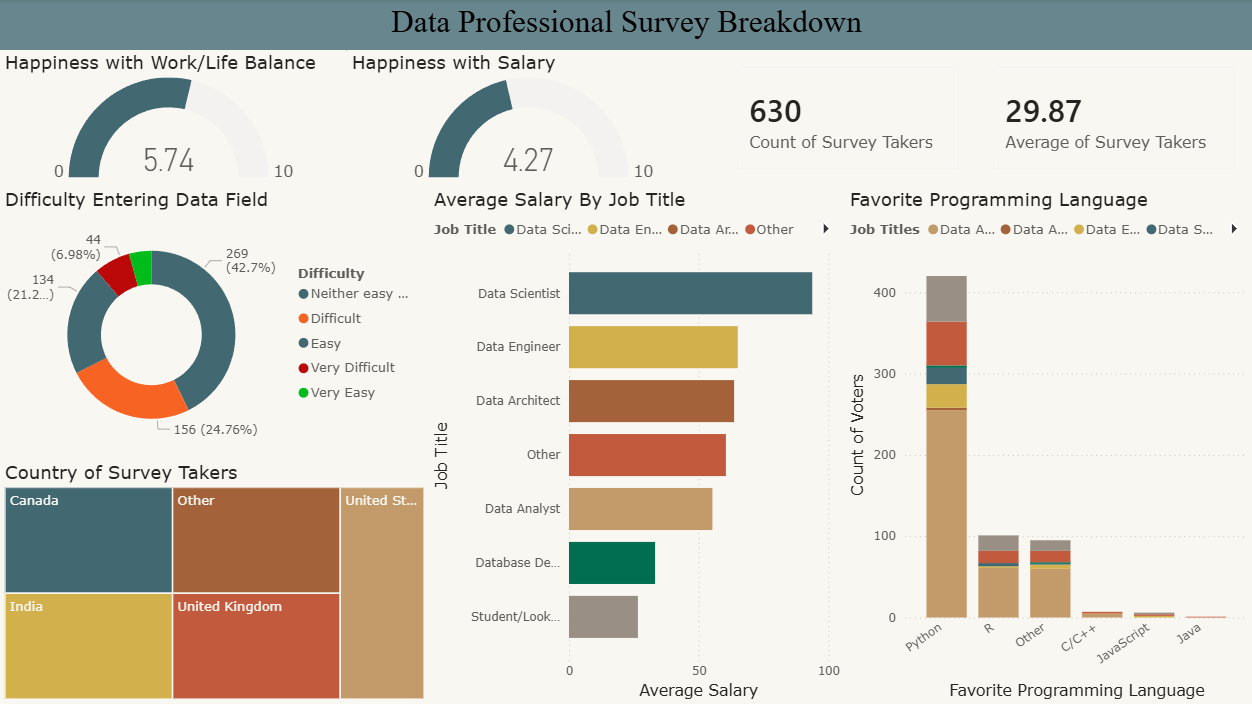

This screenshot's page, from the dashboard's own definition file:
{"tool":"powerbi","page":{"name":"Data Professional Survey Insights","canvas":[1280,720],"ordinal":0},"visuals":[{"type":"textbox","box":[0,0,1280,52.5],"z":0},{"type":"cardVisual","fields":{"Data":["CountNonNull(Data Professional Survey.Unique ID)"]},"box":[735.5,52.1,261.5,140],"z":1000},{"type":"cardVisual","fields":{"Data":["Avg(Data Professional Survey.Q10 - Current Age)"]},"box":[997,52.1,283,140],"z":2000},{"type":"barChart","title":"Average Salary By Job Title","fields":{"Category":["Data Professional Survey.Q1 - Which Title Best Fits your Current Role?.1"],"Y":["Avg(Data Professional Survey.Average Salary)"],"Series":["Data Professional Survey.Q1 - Which Title Best Fits your Current Role?.1"]},"box":[438.2,192.1,425,528.1],"z":3000},{"type":"columnChart","title":"Favorite Programming Language","fields":{"Category":["Data Professional Survey.Q5 - Favorite Programming Language.1"],"Y":["CountNonNull(Data Professional Survey.Unique ID)"],"Series":["Data Professional Survey.Q1 - Which Title Best Fits your Current Role?.1"]},"box":[863.2,192.1,416.8,528.1],"z":4000},{"type":"treemap","title":"Country of Survey Takers","fields":{"Group":["Data Professional Survey.Q11 - Which Country do you live in?.1"],"Values":["Count(Data Professional Survey.Q11 - Which Country do you live in?.1)"]},"box":[0,470.9,438.2,249.3],"z":5000},{"type":"gauge","title":"Happiness with Work/Life Balance","fields":{"Y":["Avg(Data Professional Survey.Q6 - How Happy are you in your Current Position with the following? (Work/Life Balance))"],"MinValue":["Min(Data Professional Survey.Q6 - How Happy are you in your Current Position with the following? (Work/Life Balance))1"],"MaxValue":["Max(Data Professional Survey.Q6 - How Happy are you in your Current Position with the following? (Work/Life Balance))2"]},"box":[0,52.1,354.5,140],"z":6000},{"type":"gauge","title":"Happiness with Salary","fields":{"Y":["Avg(Data Professional Survey.Q6 - How Happy are you in your Current Position with the following? (Salary))"],"MinValue":["Min(Data Professional Survey.Q6 - How Happy are you in your Current Position with the following? (Salary))"],"MaxValue":["Max(Data Professional Survey.Q6 - How Happy are you in your Current Position with the following? (Salary))"]},"box":[354.5,52.1,381,140],"z":7000},{"type":"donutChart","title":"Difficulty Entering Data Field","fields":{"Category":["Data Professional Survey.Q7 - How difficult was it for you to break into Data?"],"Y":["CountNonNull(Data Professional Survey.Q7 - How difficult was it for you to break into Data?)"]},"box":[0,192.1,438.2,278.9],"z":8000}]}

Visuals, with their boxes in screenshot pixels (x1, y1, x2, y2), scaled from the page's 1280x720 canvas onto the 1252x704 screenshot:
textbox: 0,0,1251,51
cardVisual - CountNonNull(Data Professional Survey.Unique ID): 719,51,975,188
cardVisual - Avg(Data Professional Survey.Q10 - Current Age): 975,51,1251,188
"Average Salary By Job Title" barChart: 429,188,844,703
"Favorite Programming Language" columnChart: 844,188,1251,703
"Country of Survey Takers" treemap: 0,460,429,703
"Happiness with Work/Life Balance" gauge: 0,51,347,188
"Happiness with Salary" gauge: 347,51,719,188
"Difficulty Entering Data Field" donutChart: 0,188,429,461
